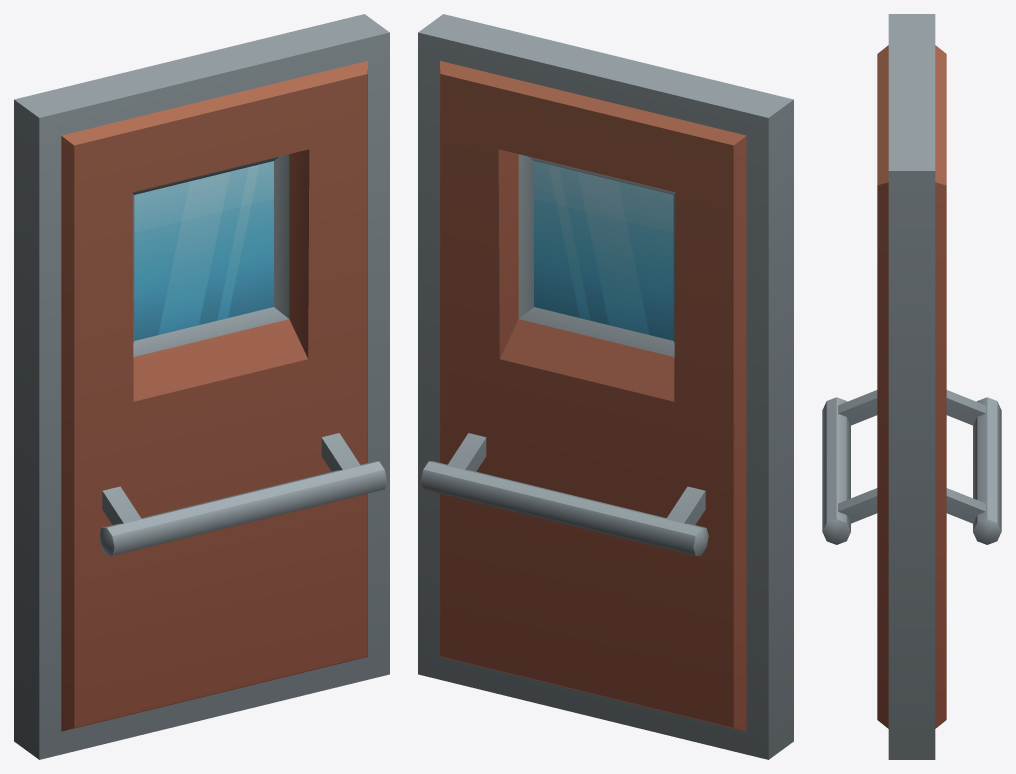
The model's file is door_B.obj.
3 renders of one model, left to right at view 1: azimuth 30°, elevation 25°; view 2: azimuth 150°, elevation 25°; view 3: azimuth 270°, elevation 25°, orthographic. The views are drawn at different scales.
Visible parts, largest first — view 1: door_B_Cube.261; view 2: door_B_Cube.261; view 3: door_B_Cube.261.
Boxes of the visible parts, x1=… form: door_B_Cube.261: x1=14, y1=14, x2=389, y2=759; door_B_Cube.261: x1=418, y1=14, x2=793, y2=759; door_B_Cube.261: x1=822, y1=14, x2=1001, y2=759.
Bounding box in the file's own units: 1.6 × 2.8 × 0.7714.
Materials: 1 (1 with a texture image).
